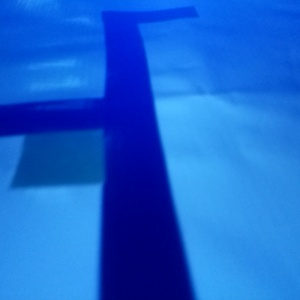bottom_left: (232, 69, 300, 127)
top_right: (1, 1, 32, 15)
